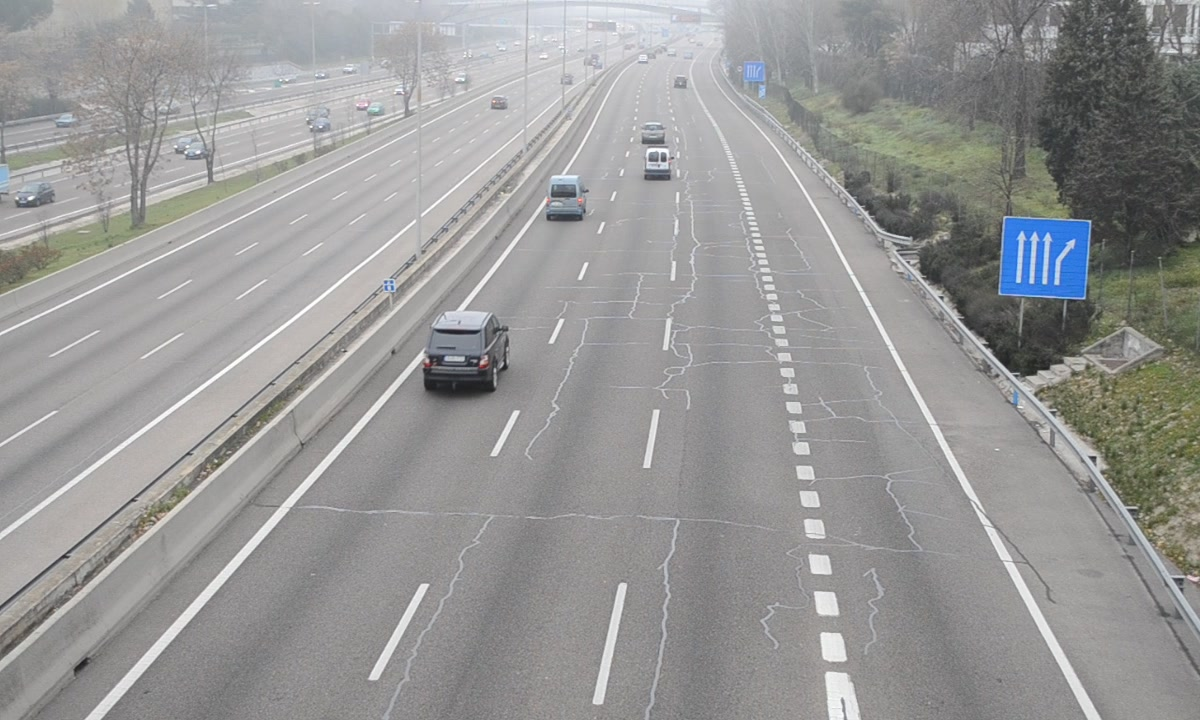car: (422, 311, 509, 386)
van: (547, 175, 587, 218), (643, 146, 672, 179)
